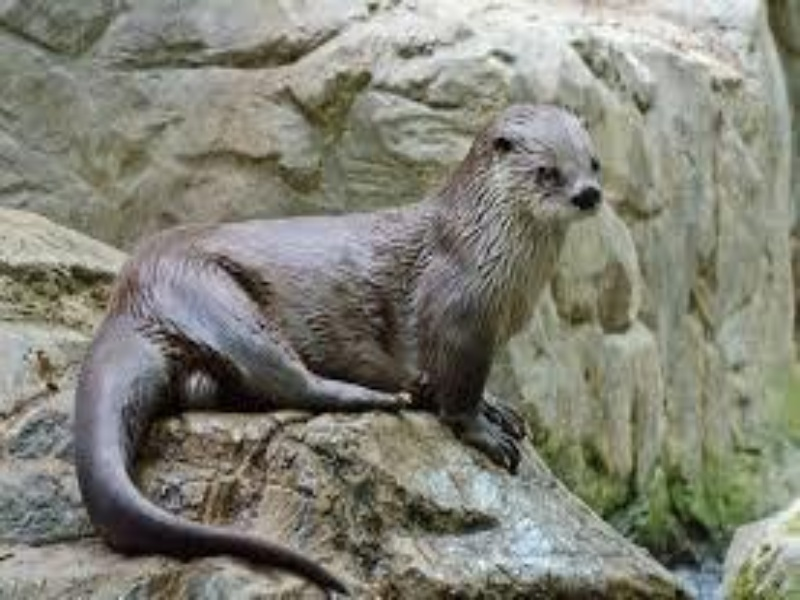minkish: (75, 99, 609, 597)
